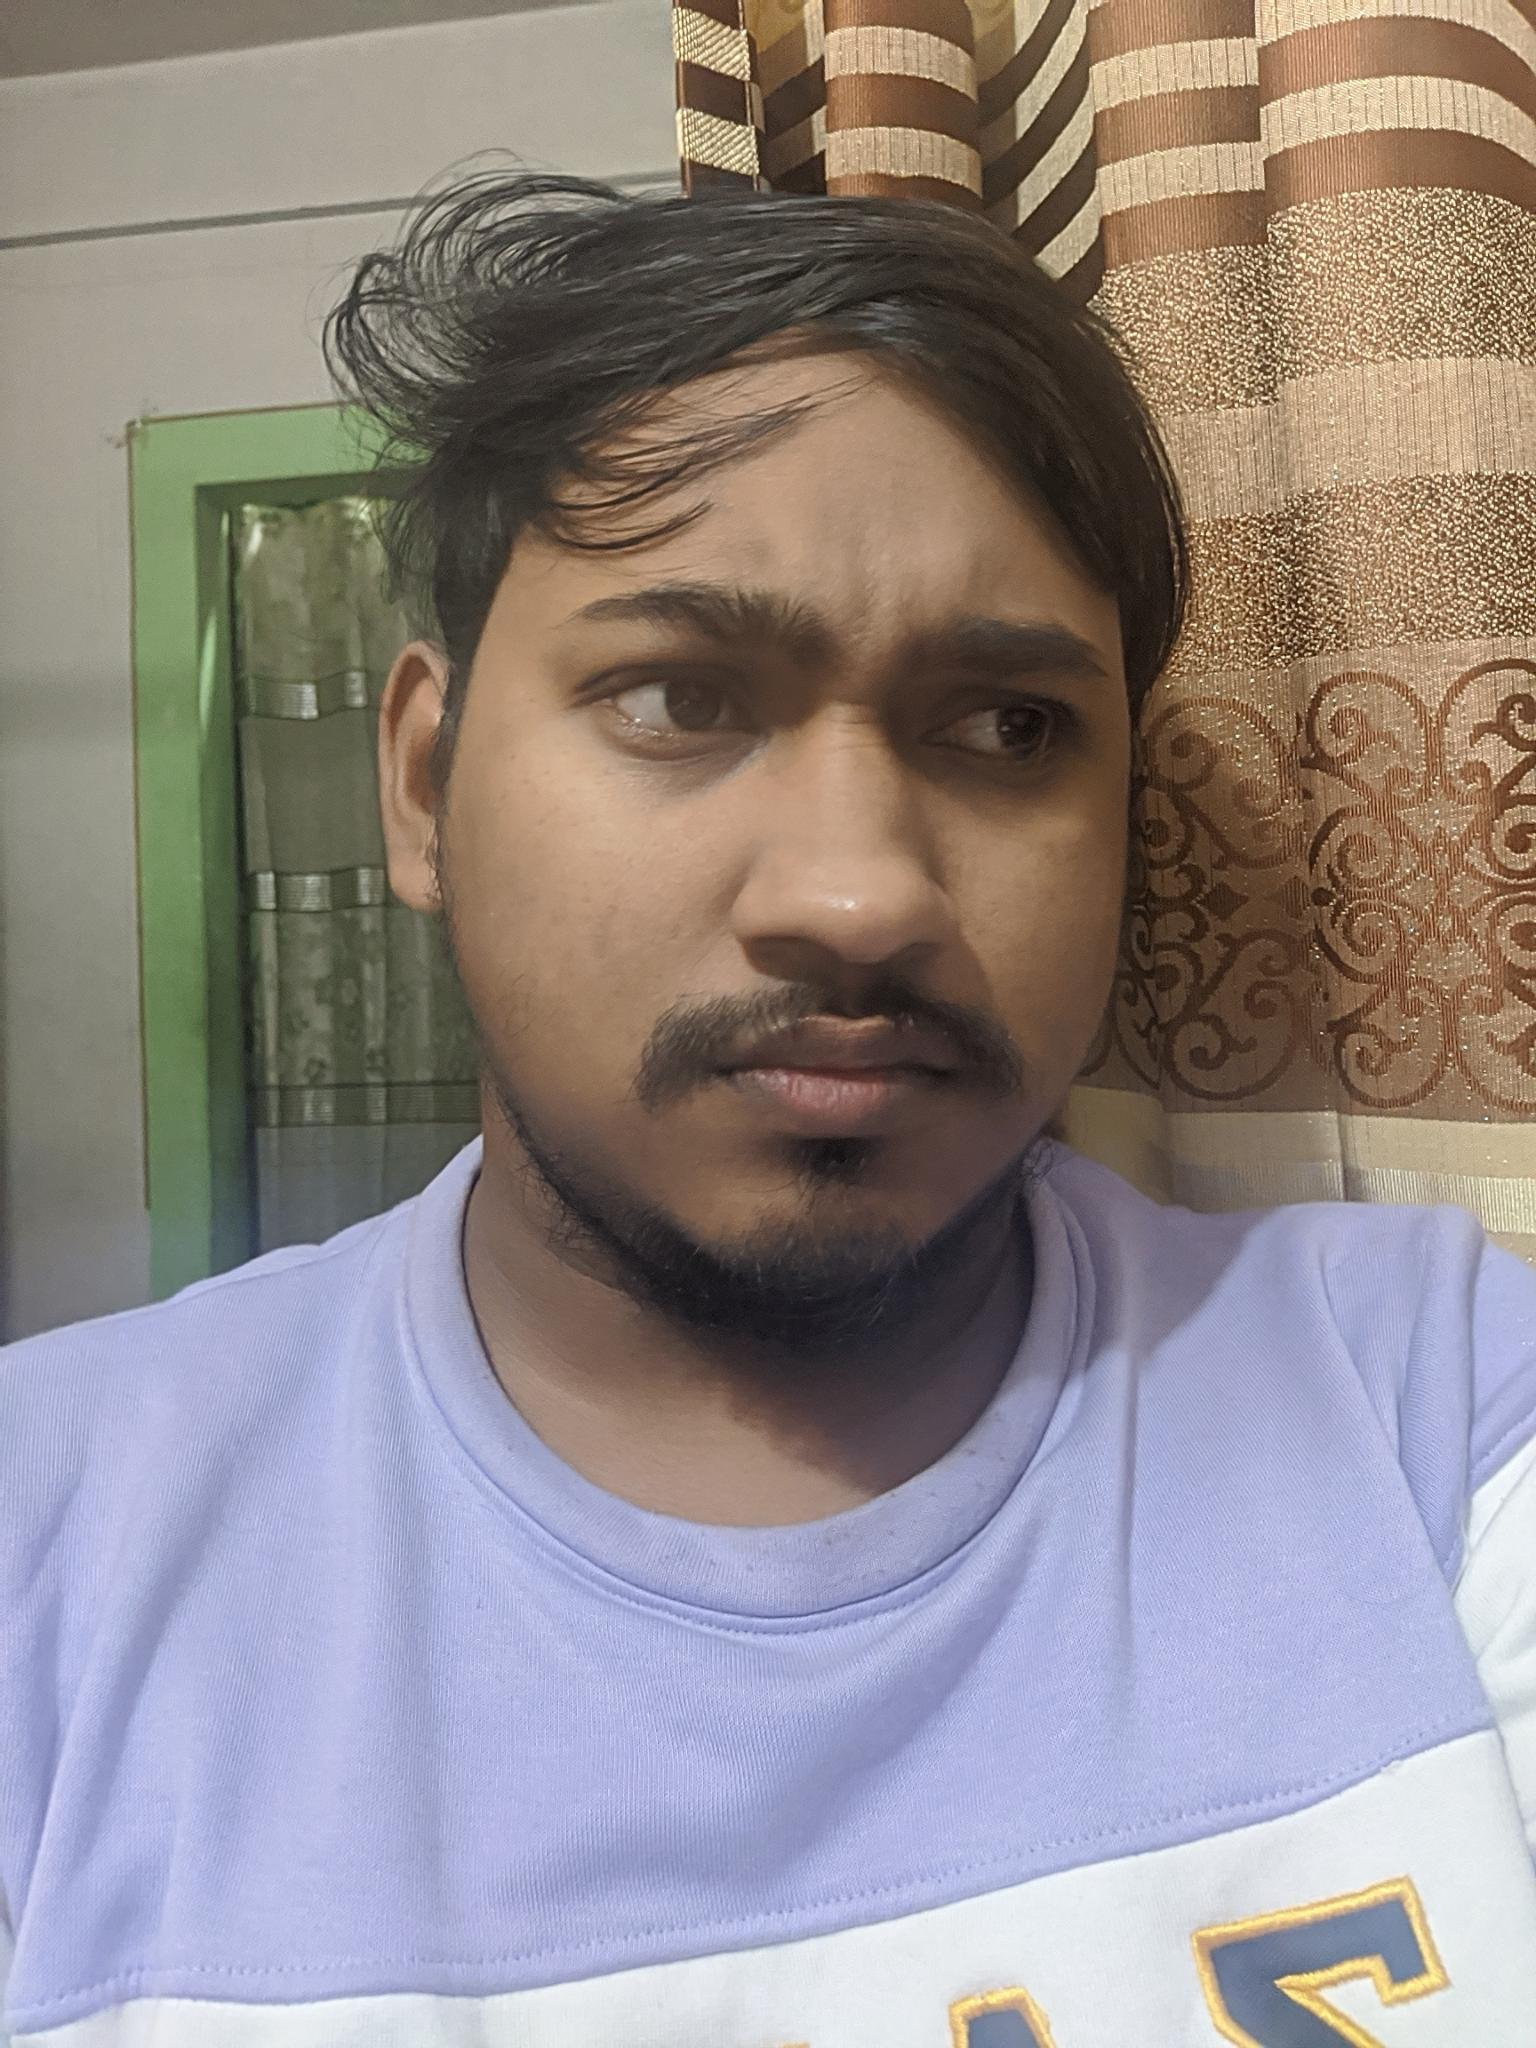Angry: (531, 477, 1141, 1301)
